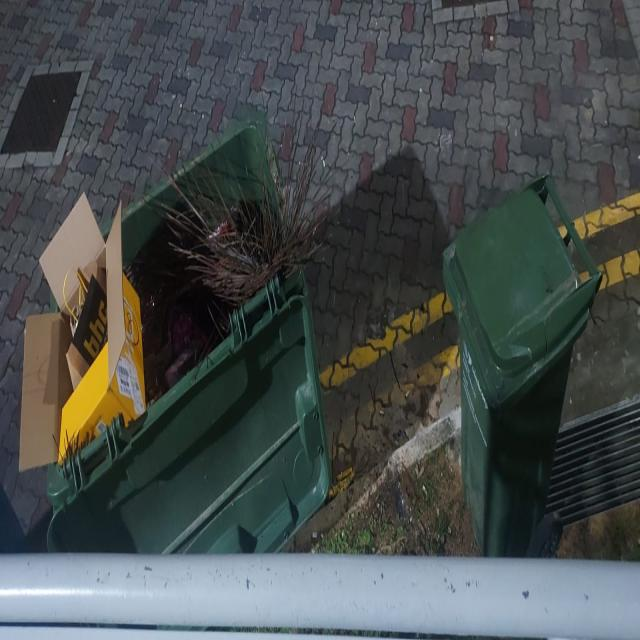bin_empty: (443, 176, 601, 556)
bin_full: (44, 116, 321, 570)
bulk_waste: (38, 204, 150, 424), (173, 176, 284, 332), (16, 308, 73, 474)
